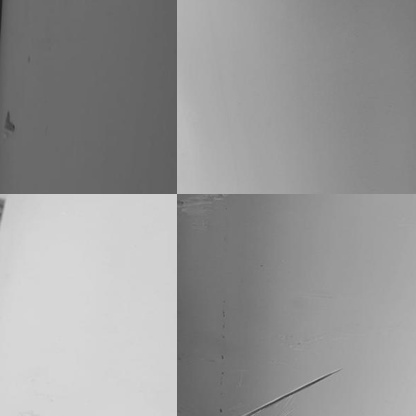sunshang: (225, 368, 341, 415), (178, 194, 232, 232), (1, 106, 21, 140)
